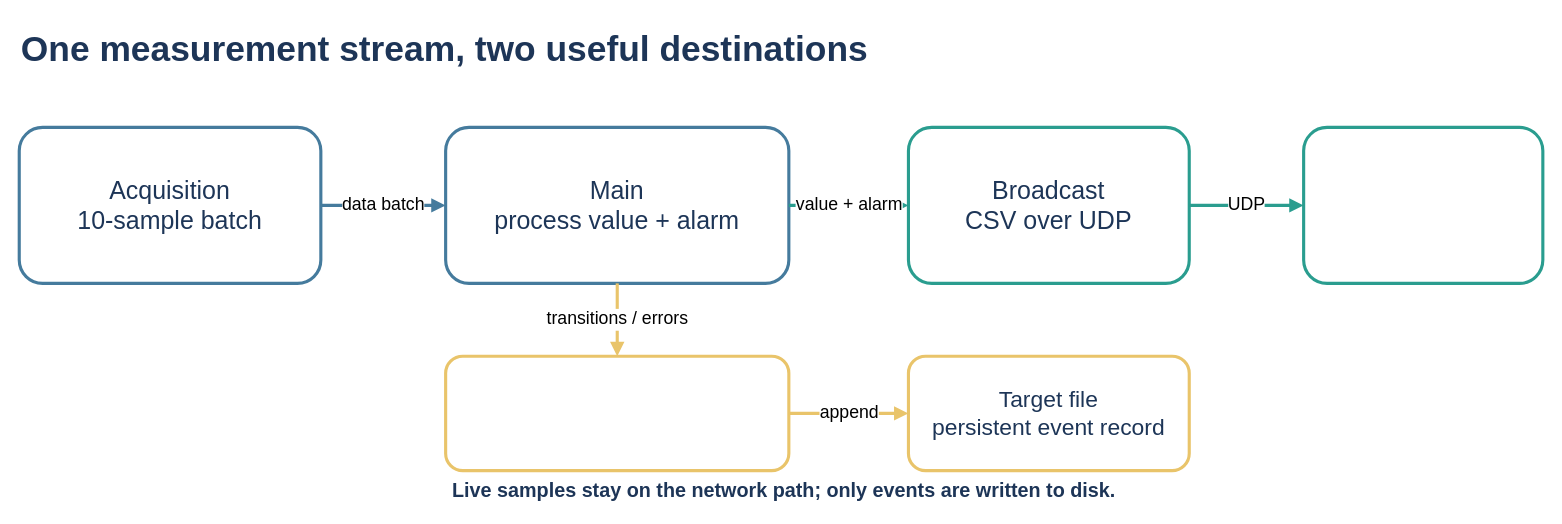
This 1562x524 diagram has some shape labels left out. The shapes that lost their labels are listed below. From the top down, each one's box as (x1, y1, x2, y2) in pixels, then its label:
(1302, 125, 1544, 284): Receiver live display
(444, 354, 790, 472): Logbook alarm transitions + errors
